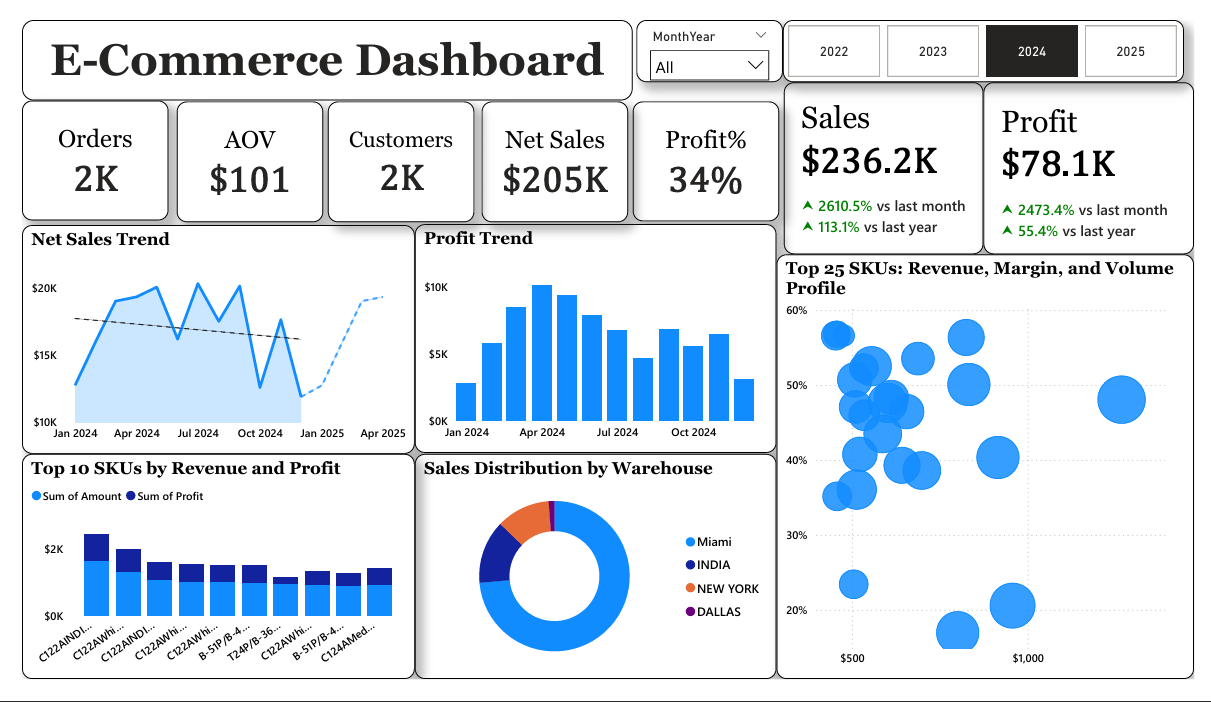

Layout of this report page (visuals, bound fields, positions):
{"tool":"powerbi","page":{"name":"Sales","canvas":[1280,720],"ordinal":0},"visuals":[{"type":"cardVisual","title":"Sales","fields":{"Data":["Sum(invoice_items (1).Amount)"]},"box":[831.8,68.2,218.2,187.5],"z":0},{"type":"cardVisual","title":"Sales","fields":{"Data":["Sum(invoice_items (1).Profit)"]},"box":[1050,68.2,229.5,187.5],"z":1000},{"type":"slicer","fields":{"Values":["DateTable.MonthYear"]},"box":[670.7,0,160.7,68.5],"z":2000},{"type":"advancedSlicerVisual","fields":{"Values":["DateTable.Year"]},"box":[831.4,0,437.4,68.5],"z":3000},{"type":"textbox","box":[0,0,666.6,88],"z":4000},{"type":"cardVisual","fields":{"Data":["invoice_items (1).Orders"]},"box":[0,88,160,131.4],"z":5000},{"type":"cardVisual","fields":{"Data":["invoice_items (1).Avg Order Value"]},"box":[169,89.4,160,131.4],"z":6000},{"type":"cardVisual","fields":{"Data":["invoice_items (1).Profit%"]},"box":[666.6,89,160,131],"z":7000},{"type":"lineChart","title":"Net Sales Trend","fields":{"Y":["invoice_items (1).Net Sales"],"Category":["DateTable.MonthYear"]},"box":[0,223.6,429,250.1],"z":8000},{"type":"lineStackedColumnComboChart","title":"Profit Trend","fields":{"Y":["Sum(invoice_items (1).Profit)"],"Category":["DateTable.MonthYear"]},"box":[429,223,395.5,250],"z":9000},{"type":"cardVisual","fields":{"Data":["invoice_items (1).Net Sales"]},"box":[502,89.4,160,131.4],"z":10000},{"type":"donutChart","title":"Sales Distribution by Warehouse","fields":{"Y":["Sum(invoice_items (1).Amount)"],"Category":["invoice_items (1).Warehouse"]},"box":[429,473.7,395.5,245.9],"z":11000},{"type":"columnChart","title":"Top 10 SKUs by Revenue and Profit","fields":{"Category":["invoice_items (1).SKU"],"Y":["Sum(invoice_items (1).Amount)","Sum(invoice_items (1).Profit)"]},"box":[0,473.7,429,245.9],"z":12000},{"type":"scatterChart","title":"Top 25 SKUs: Revenue, Margin, and Volume Profile","fields":{"X":["invoice_items (1).Net Sales"],"Y":["invoice_items (1).Profit Margin"],"Size":["Sum(invoice_items (1).Qty)"],"Category":["invoice_items (1).SKU"]},"box":[824.4,255.8,455.8,464],"z":13000},{"type":"cardVisual","fields":{"Data":["invoice_items (1).Customers"]},"box":[334,89.4,160,131.4],"z":14000}]}

Visuals, with their boxes in screenshot pixels (x1, y1, x2, y2), scaled from the page's 1280x720 canvas onto the 1211x702 screenshot:
"Sales" cardVisual: 787, 66, 993, 249
"Sales" cardVisual: 993, 66, 1210, 249
slicer - DateTable.MonthYear: 635, 0, 787, 67
advancedSlicerVisual - DateTable.Year: 787, 0, 1200, 67
textbox: 0, 0, 631, 86
cardVisual - invoice_items (1).Orders: 0, 86, 151, 214
cardVisual - invoice_items (1).Avg Order Value: 160, 87, 311, 215
cardVisual - invoice_items (1).Profit%: 631, 87, 782, 214
"Net Sales Trend" lineChart: 0, 218, 406, 462
"Profit Trend" lineStackedColumnComboChart: 406, 217, 780, 461
cardVisual - invoice_items (1).Net Sales: 475, 87, 626, 215
"Sales Distribution by Warehouse" donutChart: 406, 462, 780, 701
"Top 10 SKUs by Revenue and Profit" columnChart: 0, 462, 406, 701
"Top 25 SKUs: Revenue, Margin, and Volume Profile" scatterChart: 780, 249, 1210, 701
cardVisual - invoice_items (1).Customers: 316, 87, 467, 215
